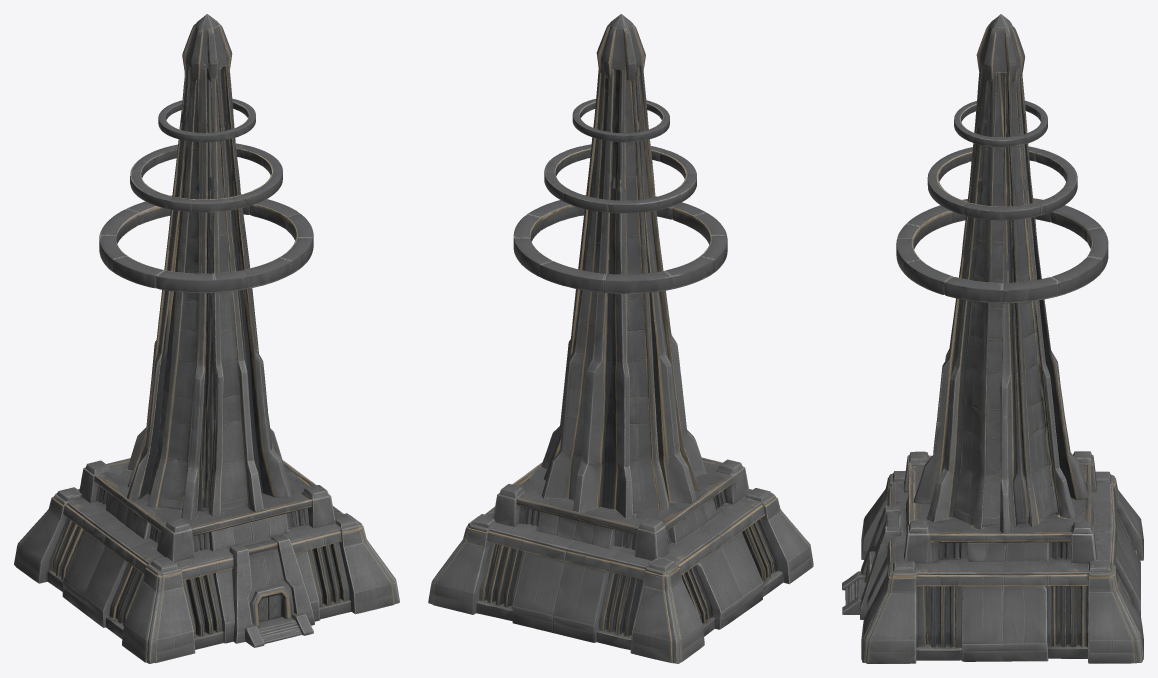
File: imperial_psionic_spire.glb
3 views of the same model, side by side, from view 1: azimuth 30°, elevation 25°; view 2: azimuth 150°, elevation 25°; view 3: azimuth 270°, elevation 25° (orthographic). The views are drawn at different scales.
Visible parts, largest first — view 1: mesh_node; view 2: mesh_node; view 3: mesh_node.
Boxes of the visible parts, left/top/right/bottom form: mesh_node: left=14, top=14, right=399, bottom=663; mesh_node: left=428, top=14, right=813, bottom=663; mesh_node: left=842, top=14, right=1143, bottom=663.
Bounding box in the file's own units: 29.87 × 64.01 × 29.87.
1 material, 1 textured.
